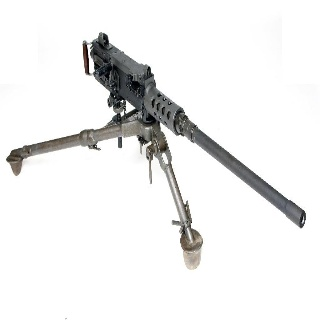rifle: (1, 30, 311, 275)
